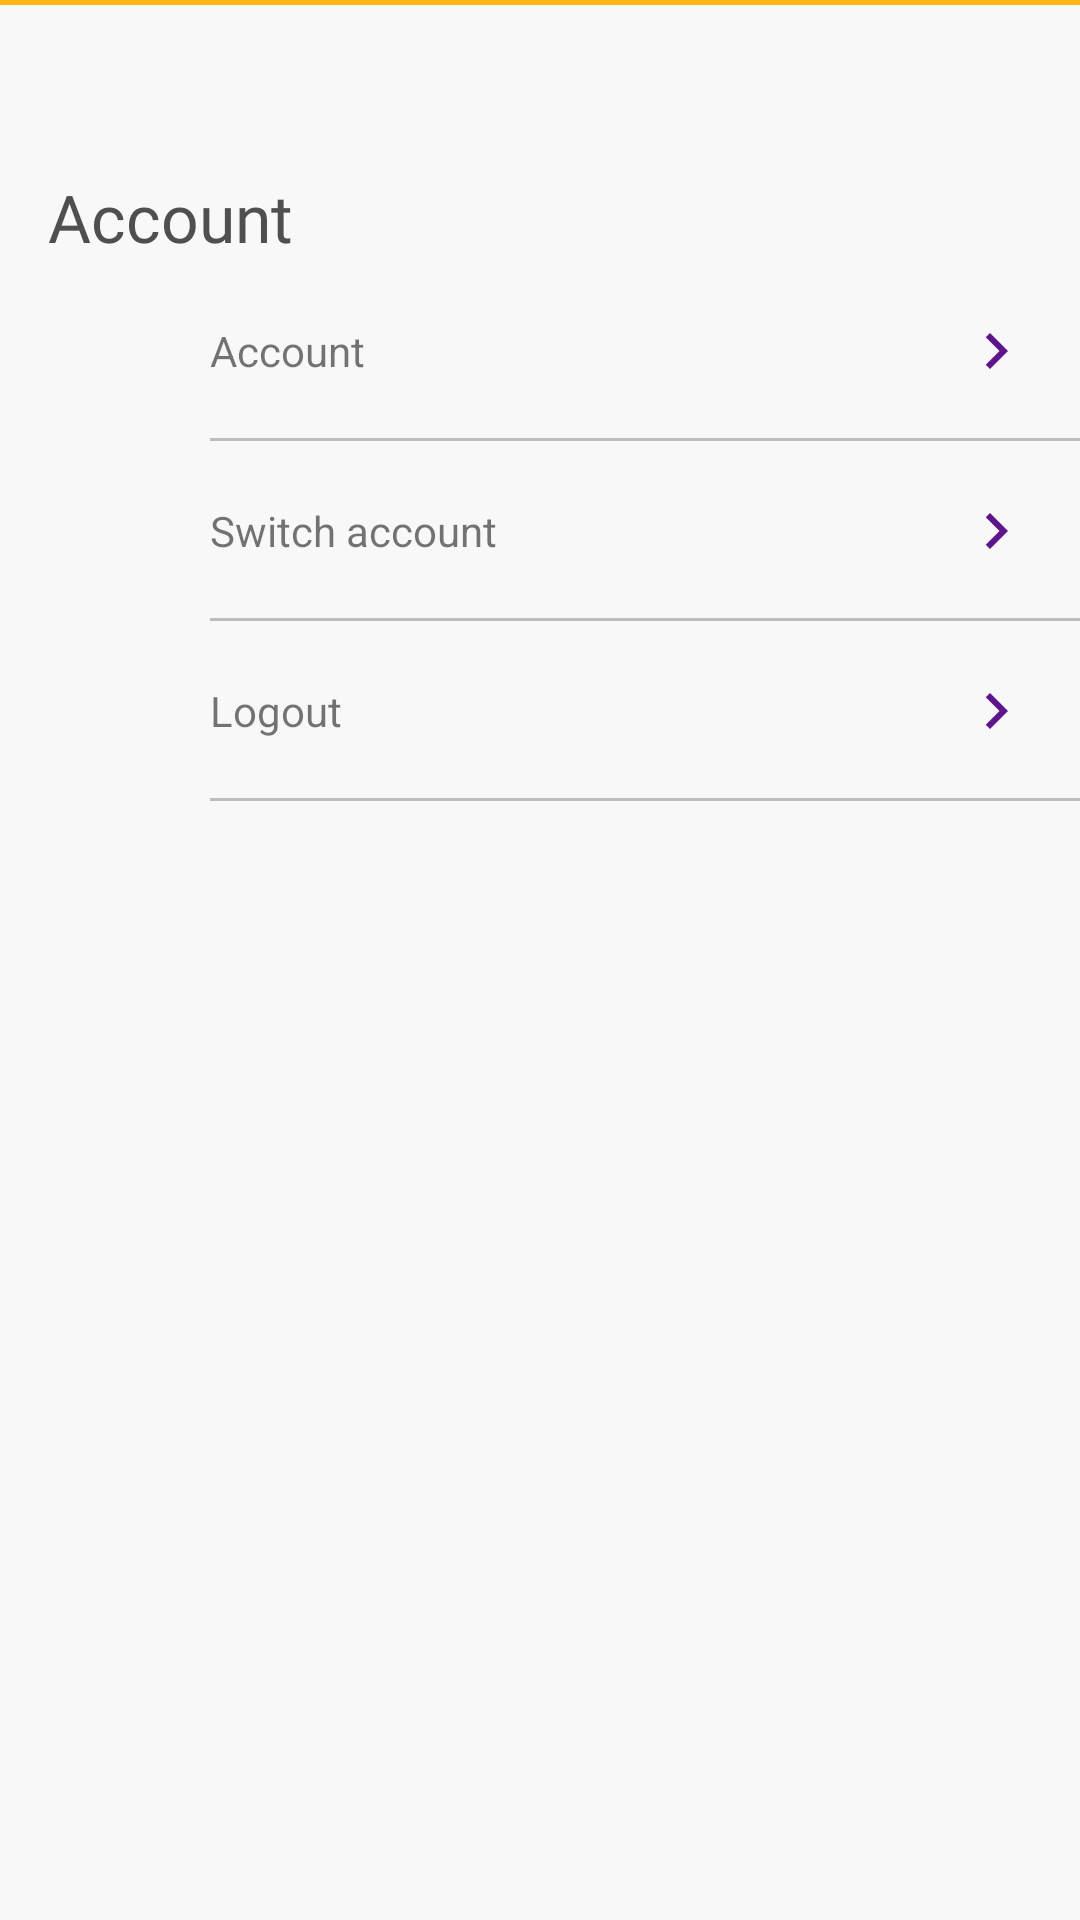

Icon bounding boxes for this 1080x1920 phone screenshot, format (x1, y1, x2, y2):
chevron right: (986, 333, 1008, 369), (986, 513, 1008, 549), (986, 693, 1008, 729)
